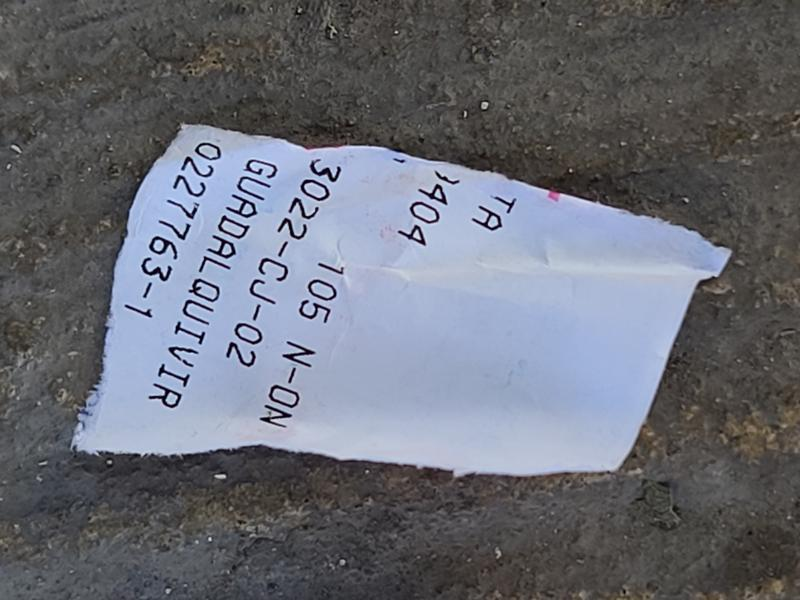papel: (71, 125, 732, 478)
